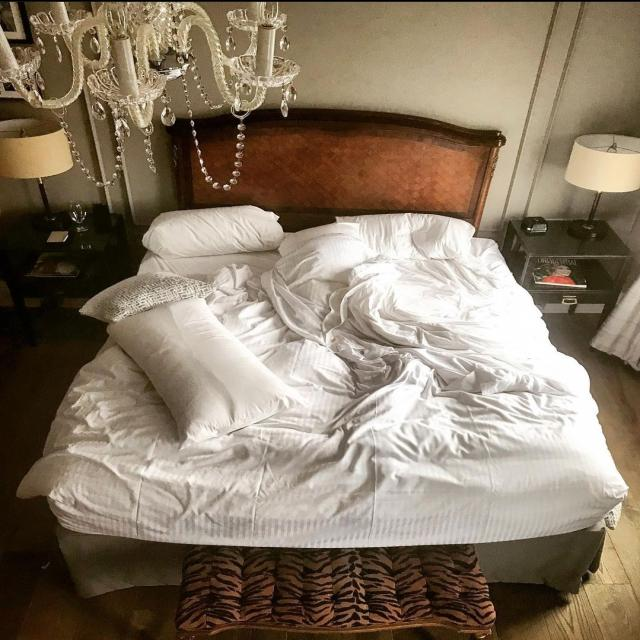bed: (52, 203, 618, 615)
